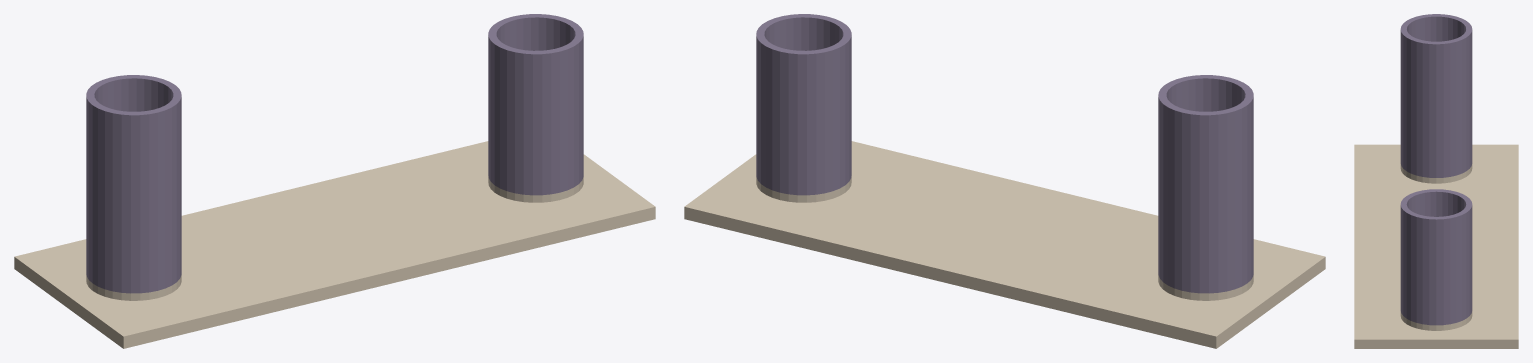
The picture shows the model from 3 angles, left to right: view 1: azimuth 30°, elevation 25°; view 2: azimuth 150°, elevation 25°; view 3: azimuth 270°, elevation 25°; orthographic projection. The views are drawn at different scales.
Parts seen in each view (by area): view 1: storage-roof, storage-cup-left-wall, storage-cup-right-wall, storage-cup-right-bottom, storage-cup-left-bottom; view 2: storage-roof, storage-cup-left-wall, storage-cup-right-wall, storage-cup-right-bottom, storage-cup-left-bottom; view 3: storage-roof, storage-cup-left-wall, storage-cup-right-wall, storage-cup-right-bottom, storage-cup-left-bottom.
Part boxes in pixels (x1,y1,x2,y2): storage-roof: [14, 141, 655, 348]; storage-cup-left-wall: [86, 75, 181, 293]; storage-cup-right-wall: [488, 14, 583, 195]; storage-cup-right-bottom: [488, 176, 583, 202]; storage-cup-left-bottom: [86, 275, 181, 300]; storage-roof: [684, 141, 1325, 348]; storage-cup-left-wall: [1158, 75, 1253, 293]; storage-cup-right-wall: [756, 14, 851, 195]; storage-cup-right-bottom: [756, 176, 851, 202]; storage-cup-left-bottom: [1158, 275, 1253, 300]; storage-roof: [1354, 144, 1518, 348]; storage-cup-left-wall: [1400, 14, 1472, 177]; storage-cup-right-wall: [1400, 189, 1472, 325]; storage-cup-right-bottom: [1400, 311, 1472, 330]; storage-cup-left-bottom: [1400, 164, 1472, 183].
Bounding box in the file's own units: 0.45 × 0.16 × 0.16.
